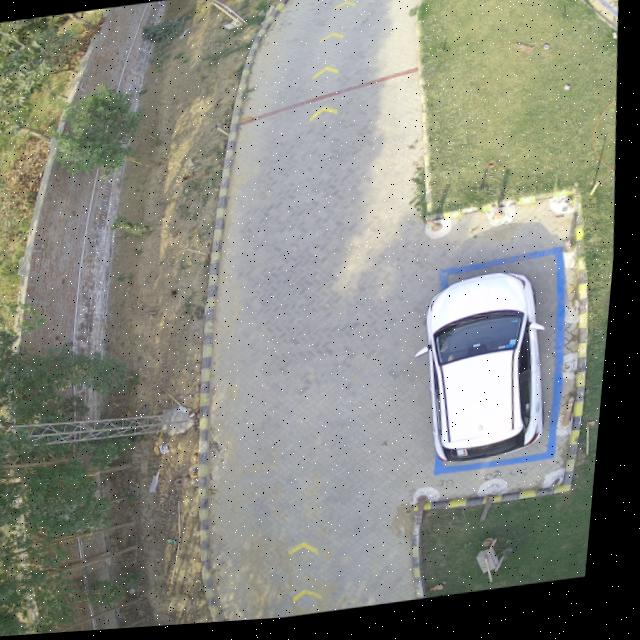car: (421, 278, 552, 469)
